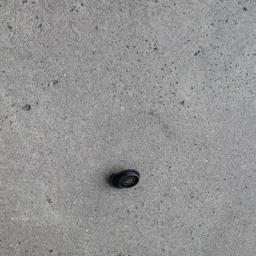FOD: (108, 165, 145, 193)
